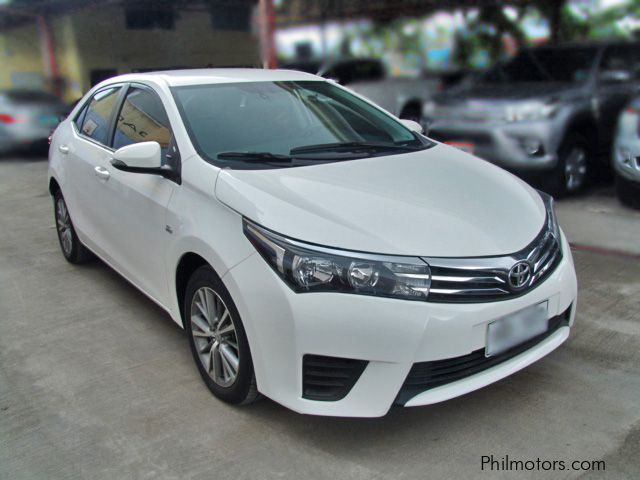car: (45, 68, 578, 407)
